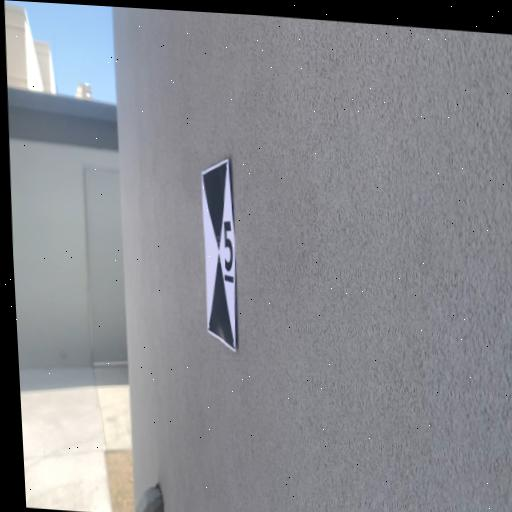target5: (201, 160, 237, 351)
